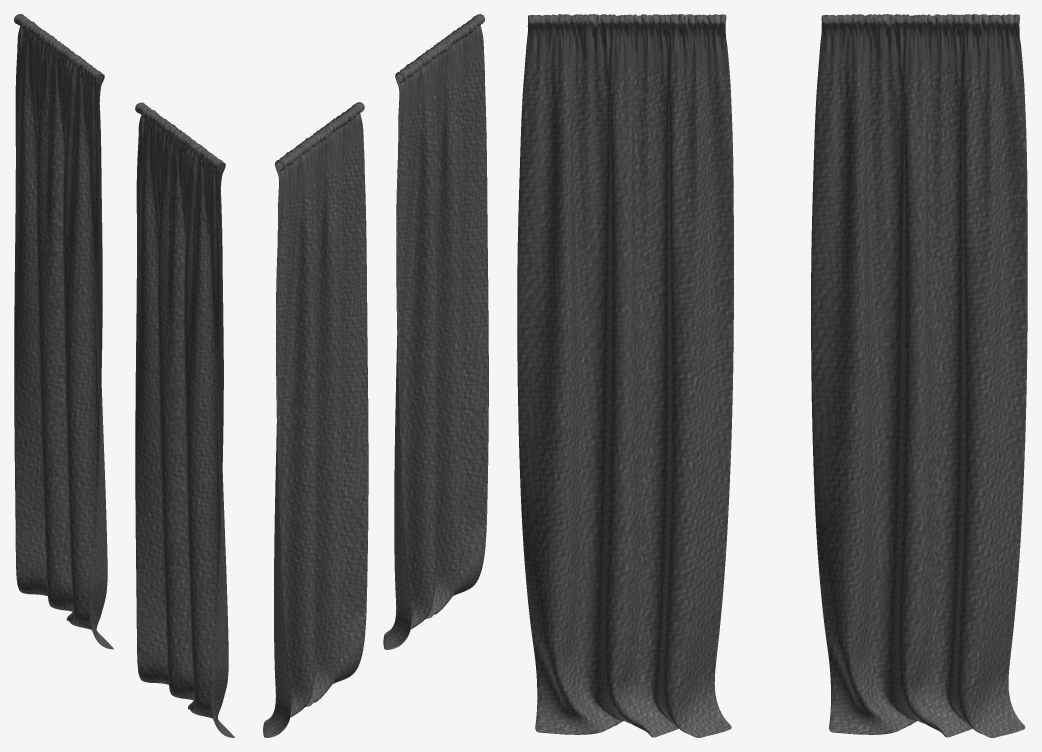
Rendered from objs_.glb.
3 renders of one model, left to right at view 1: azimuth 30°, elevation 25°; view 2: azimuth 150°, elevation 25°; view 3: azimuth 270°, elevation 25°, orthographic. The views are drawn at different scales.
Visible parts, largest first — view 1: Semi-Sheer Rod Pocket Curtains - Left2, Semi-Sheer Rod Pocket Curtains - Left; view 2: Semi-Sheer Rod Pocket Curtains - Left, Semi-Sheer Rod Pocket Curtains - Left2; view 3: Semi-Sheer Rod Pocket Curtains - Left2, Semi-Sheer Rod Pocket Curtains - Left.
Boxes of the visible parts, x1,y1,x2,y2 form: Semi-Sheer Rod Pocket Curtains - Left2: [14, 14, 113, 649]; Semi-Sheer Rod Pocket Curtains - Left: [135, 102, 234, 737]; Semi-Sheer Rod Pocket Curtains - Left: [383, 14, 488, 649]; Semi-Sheer Rod Pocket Curtains - Left2: [263, 102, 368, 737]; Semi-Sheer Rod Pocket Curtains - Left2: [811, 14, 1027, 737]; Semi-Sheer Rod Pocket Curtains - Left: [517, 14, 733, 737].
Bounding box in the file's own units: 0.1886 × 2.89 × 1.89.
Materials: 1 (1 with a texture image).
